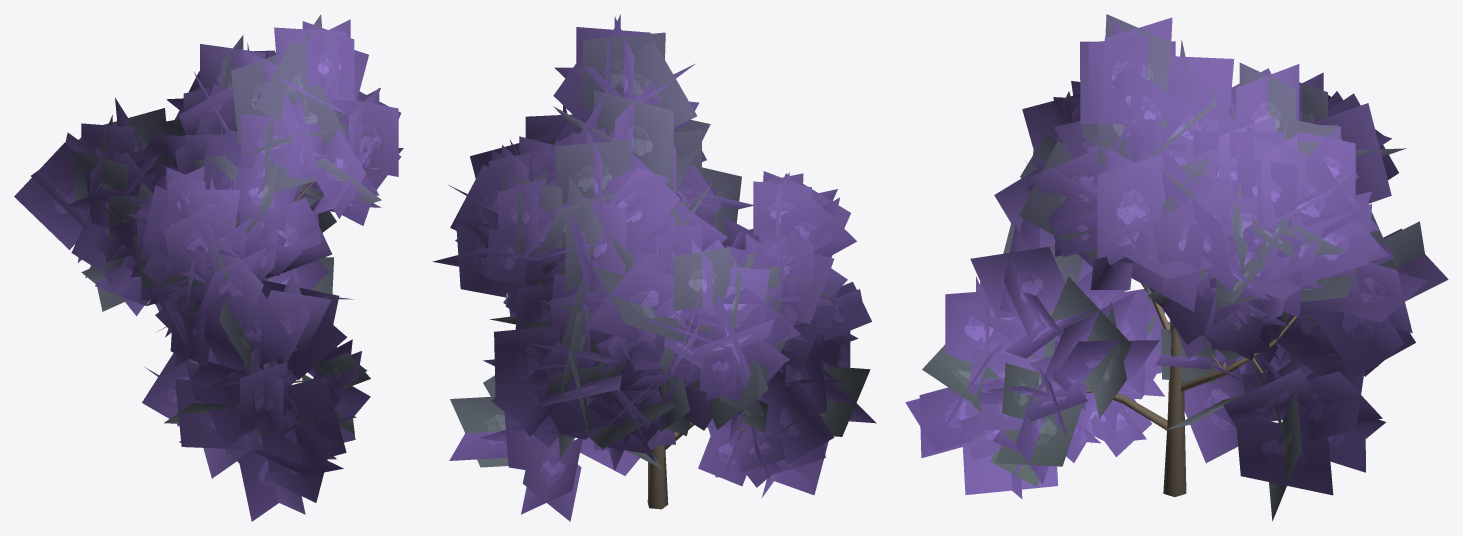
File: jacaranda-bajo.glb
3 renders of one model, left to right at view 1: azimuth 30°, elevation 25°; view 2: azimuth 150°, elevation 25°; view 3: azimuth 270°, elevation 25°, orthographic. The views are drawn at different scales.
Parts seen in each view (by area): view 1: jacaranda; view 2: jacaranda; view 3: jacaranda.
Part boxes in pixels (x1=…): jacaranda: x1=14, y1=14, x2=403, y2=521; jacaranda: x1=433, y1=14, x2=876, y2=521; jacaranda: x1=905, y1=14, x2=1448, y2=521.
Bounding box in the file's own units: 9.82 × 12.79 × 11.99.
2 materials, 1 textured.
